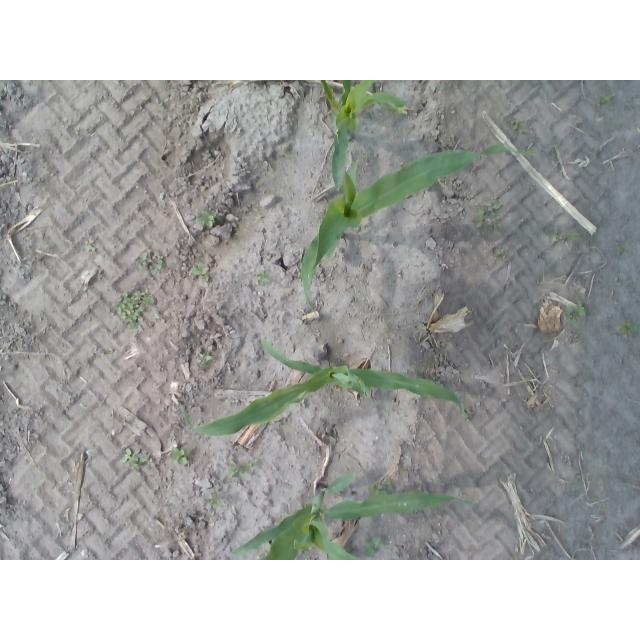Maize: (300, 145, 537, 317), (180, 339, 460, 438), (232, 472, 477, 561), (318, 80, 408, 192)
Weeds: (114, 288, 157, 334), (472, 201, 504, 232), (120, 448, 153, 470), (139, 249, 165, 275), (228, 458, 256, 479), (567, 302, 586, 327), (367, 480, 394, 497), (190, 262, 210, 283), (170, 448, 191, 467), (364, 537, 384, 556), (206, 490, 226, 509), (195, 210, 216, 228), (509, 118, 528, 135), (617, 321, 640, 335), (196, 353, 212, 368), (255, 268, 269, 284), (549, 229, 563, 244), (492, 246, 508, 258), (566, 229, 580, 241), (598, 94, 613, 105), (461, 403, 470, 420), (83, 241, 95, 252), (615, 243, 623, 255), (257, 552, 267, 560), (397, 466, 408, 473), (154, 310, 160, 318)
